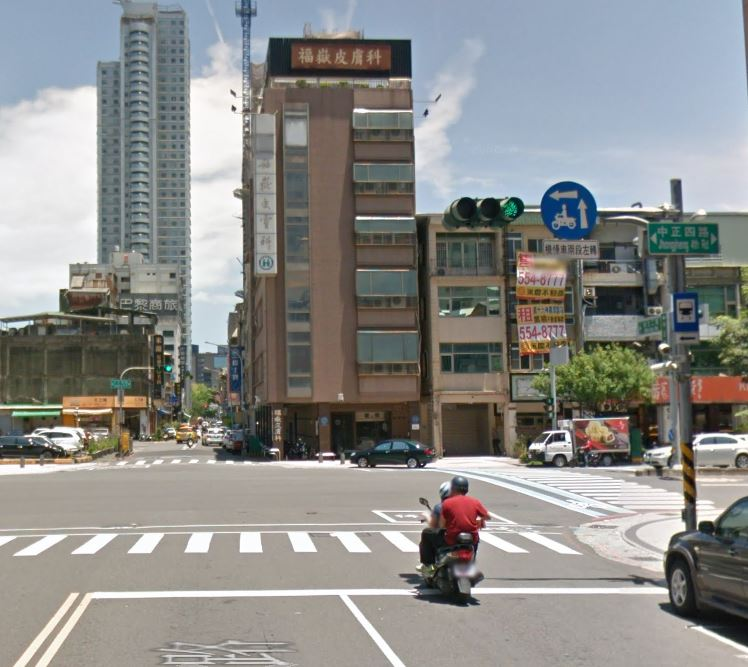Traffic_light_green: (444, 193, 525, 228)
motorcycle: (416, 495, 489, 606)
